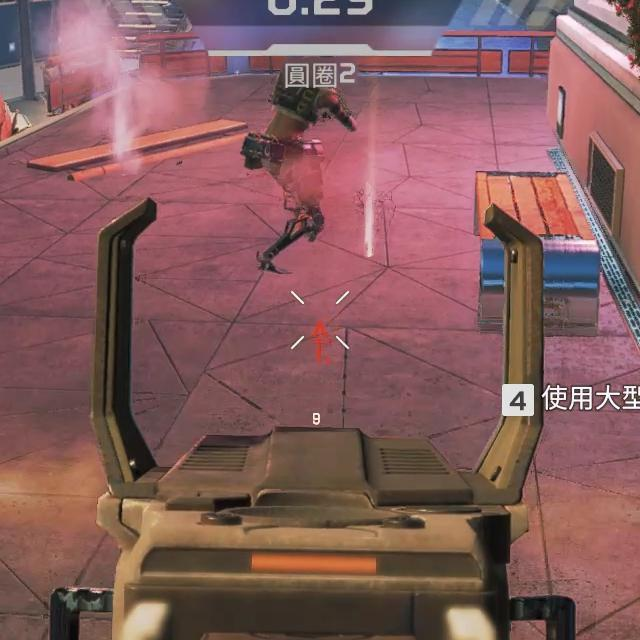avatar: (239, 86, 359, 278)
